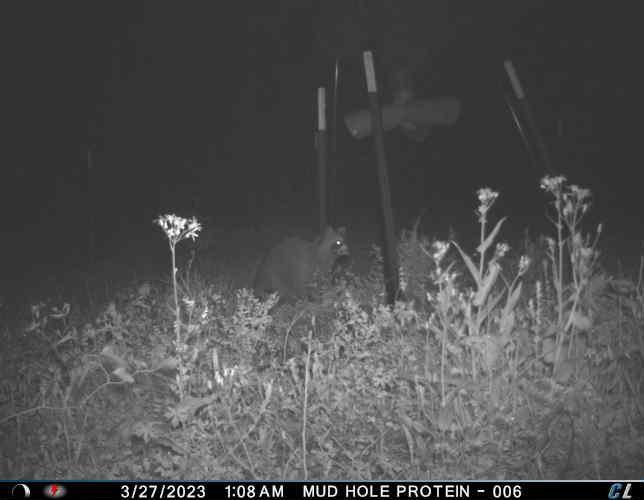Raccoon: (248, 226, 351, 306)
